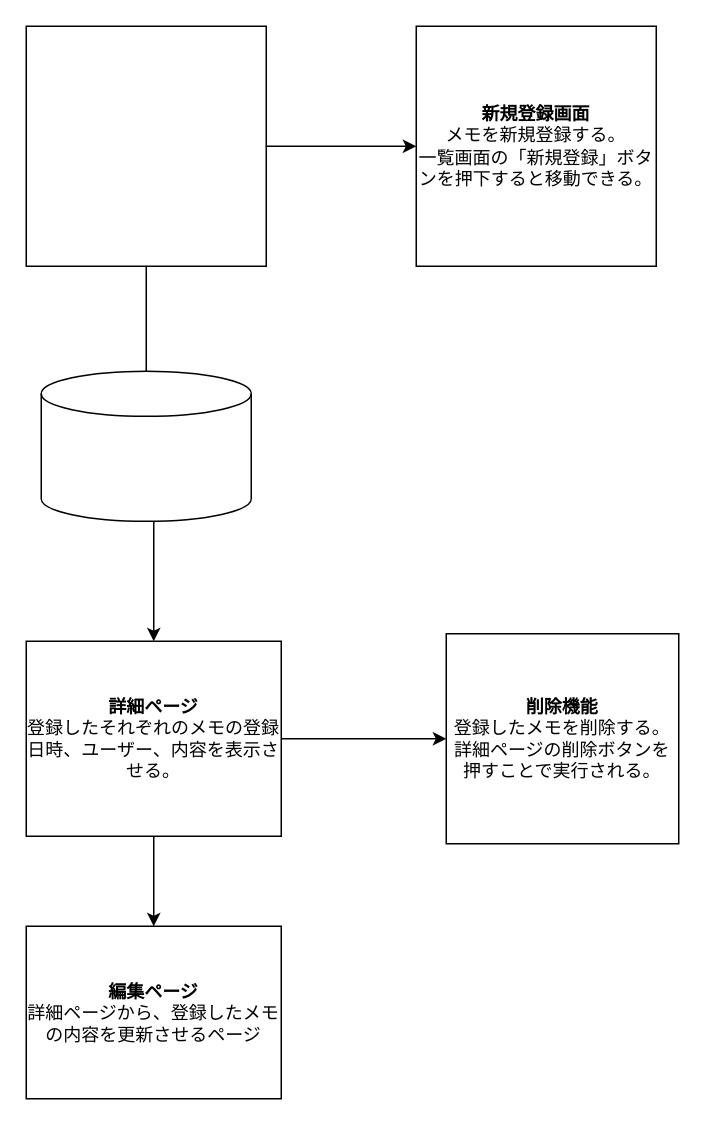
The diagram is 705 pixels wide and 1125 high, and some of its shapes have lost their labels. Each missing label, with the centre of its shape:
"user_id,name,content" goes at point (145, 445).
"メモの一覧画面 登録したメモのリンクを画面に一覧で表示させる このページはトップページも兼ねている。" goes at point (145, 145).
